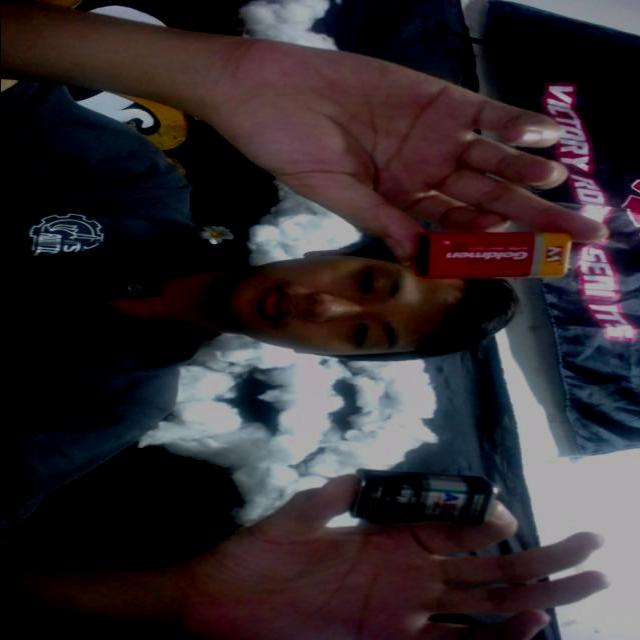9V: (403, 218, 591, 294), (320, 463, 508, 536)
